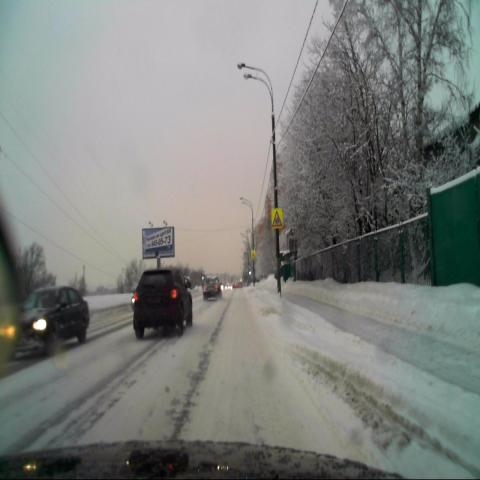1_23: (271, 207, 283, 228)
